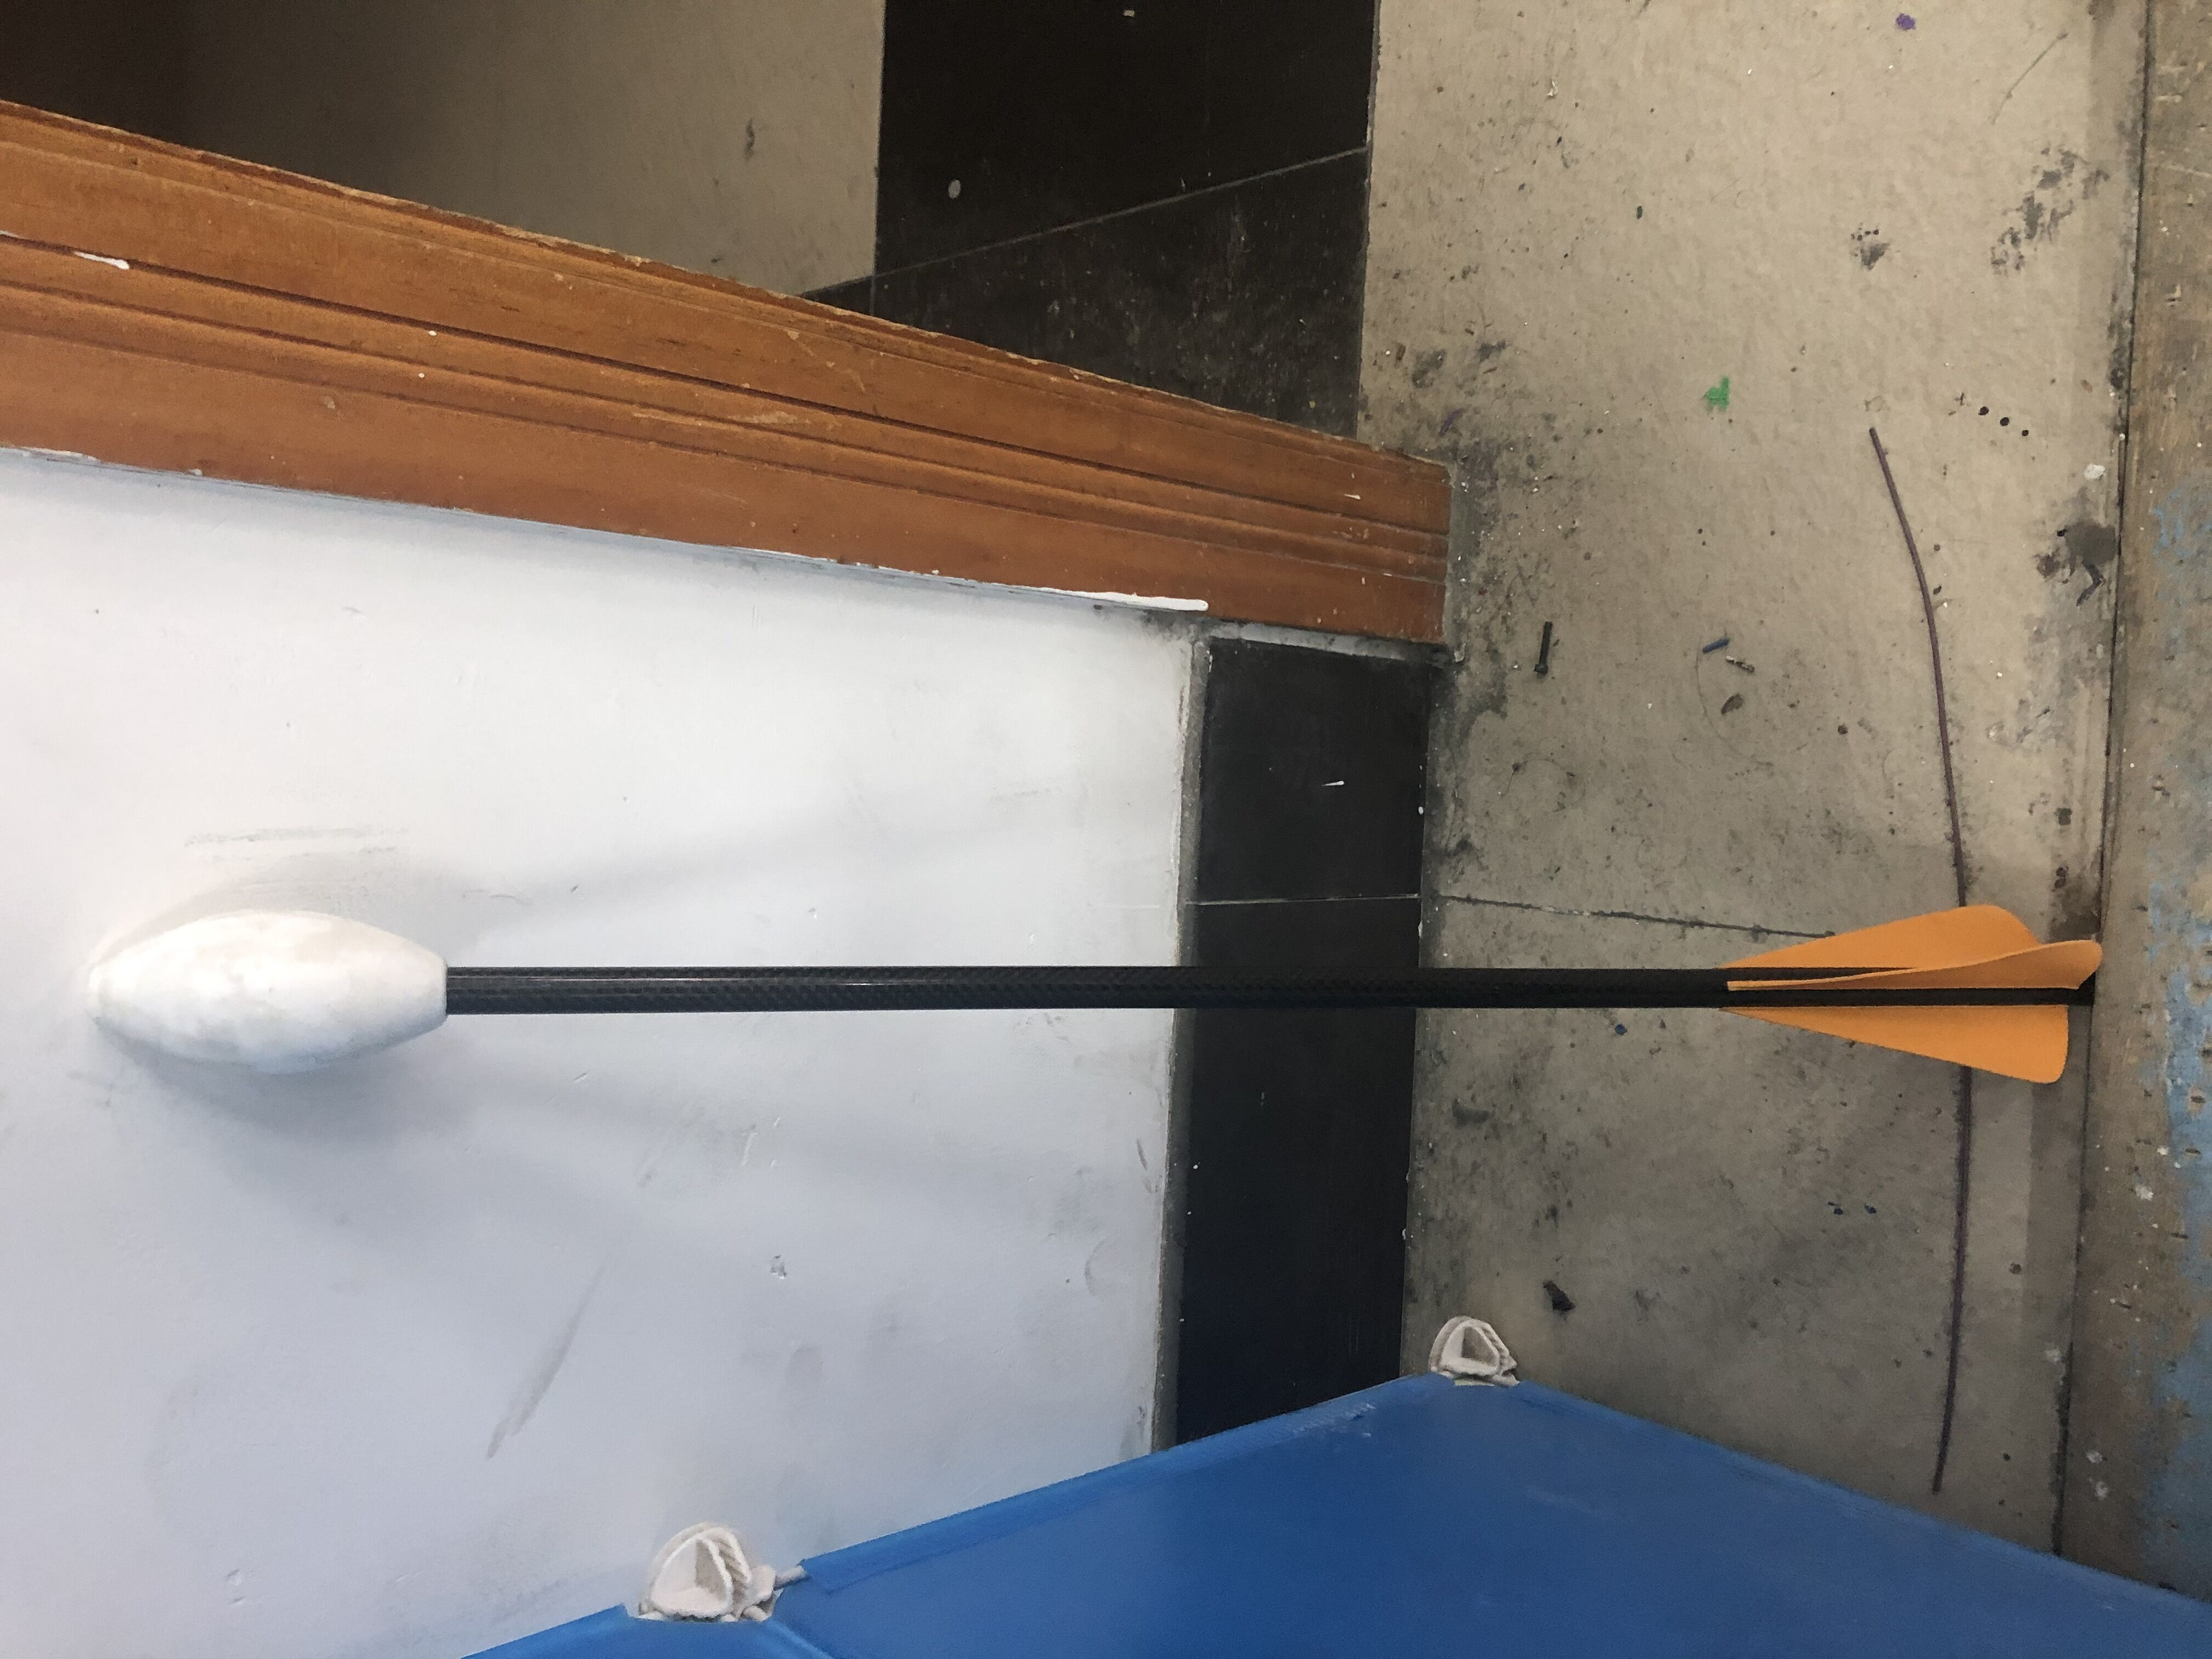arrow: (75, 892, 2114, 1100)
arrowFront: (84, 906, 456, 1079)
